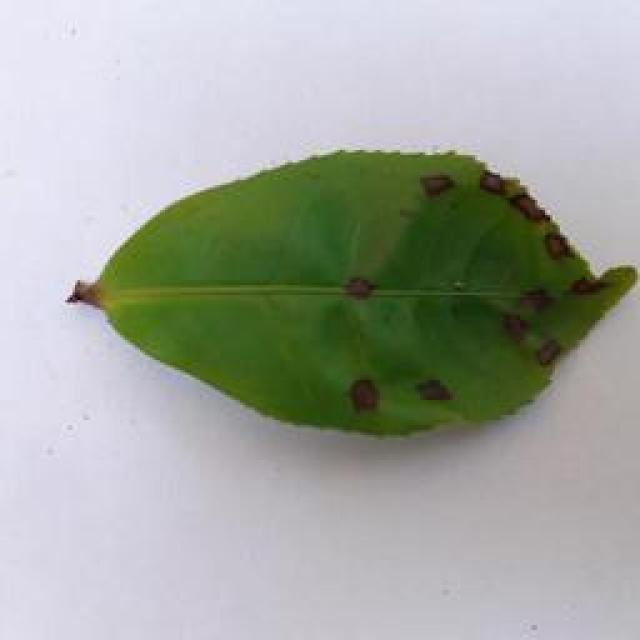Helopeltis: (66, 143, 639, 445)
